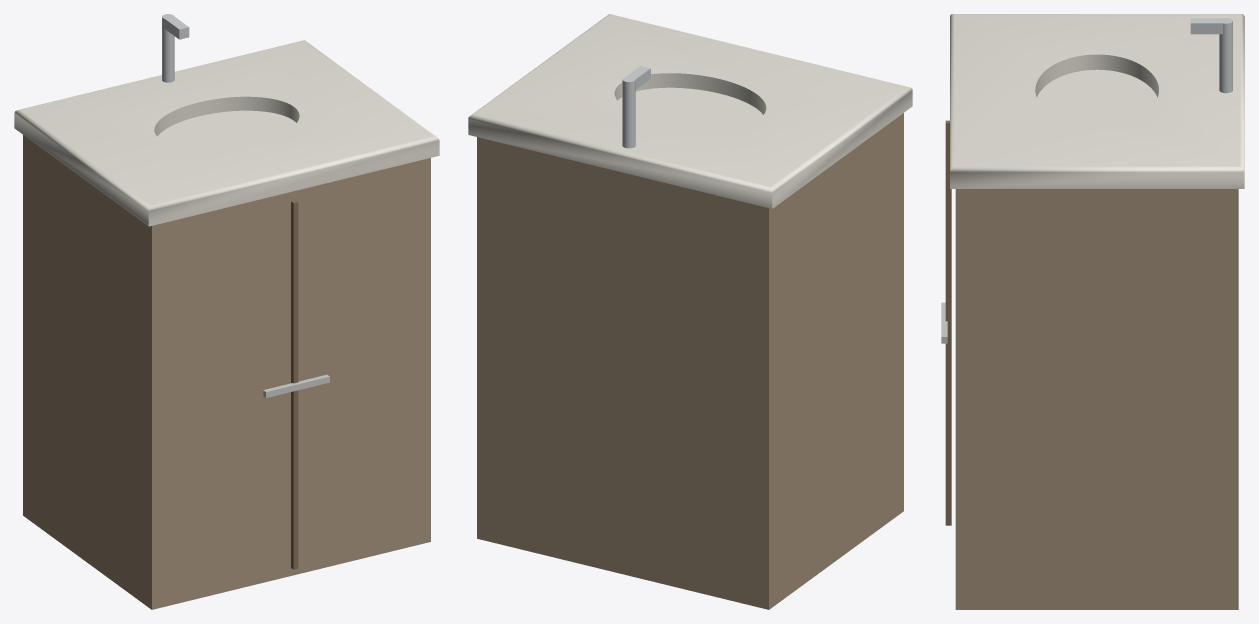
Rendered from sink_bath.glb.
3 renders of one model, left to right at view 1: azimuth 30°, elevation 25°; view 2: azimuth 150°, elevation 25°; view 3: azimuth 270°, elevation 25°, orthographic. The views are drawn at different scales.
Parts seen in each view (by area): view 1: cabinet, countertop, seam, faucet_riser, pull; view 2: cabinet, countertop, faucet_riser; view 3: cabinet, countertop, seam, faucet_riser, faucet_spout.
Part boxes in pixels (x1=…): cabinet: x1=23, y1=135, x2=430, y2=609; countertop: x1=14, y1=40, x2=439, y2=226; seam: x1=291, y1=200, x2=298, y2=569; faucet_riser: x1=162, y1=14, x2=174, y2=82; pull: x1=263, y1=374, x2=329, y2=397; cabinet: x1=477, y1=113, x2=903, y2=609; countertop: x1=468, y1=14, x2=912, y2=208; faucet_riser: x1=622, y1=76, x2=635, y2=148; cabinet: x1=955, y1=189, x2=1238, y2=609; countertop: x1=950, y1=14, x2=1244, y2=188; seam: x1=945, y1=120, x2=951, y2=525; faucet_riser: x1=1219, y1=18, x2=1232, y2=93; faucet_spout: x1=1190, y1=18, x2=1226, y2=34.
Size of the model in its own units: 0.6096 by 0.9398 by 0.5017.
